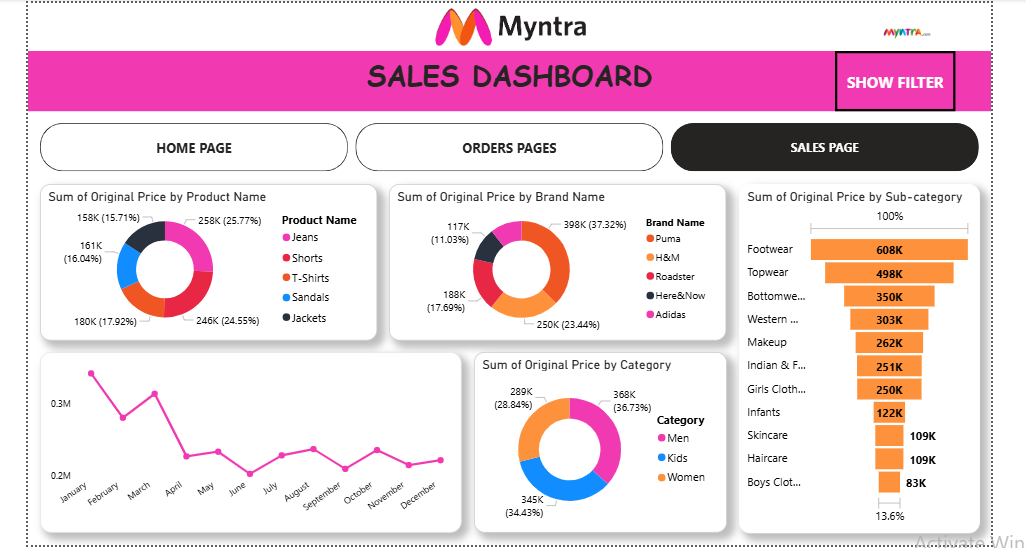

The dashboard page shown, as its layout file describes it:
{"tool":"powerbi","page":{"name":"SALES PAGE","canvas":[1280,720],"ordinal":2},"visuals":[{"type":"image","box":[0,0,1280,64],"z":0},{"type":"textbox","box":[0,64,1280,80],"z":1000},{"type":"donutChart","fields":{"Category":["dim_products.Product Name"],"Y":["Sum(fact_orders.Original Price)"]},"box":[16,240,448,208],"z":2000},{"type":"donutChart","fields":{"Category":["dim_products.Brand Name"],"Y":["Sum(fact_orders.Original Price)"]},"box":[480,240,448,208],"z":3000},{"type":"lineChart","fields":{"Category":["fact_orders.Month Name"],"Y":["Sum(fact_orders.Original Price)"]},"box":[16,464,560,240],"z":4000},{"type":"donutChart","fields":{"Category":["dim_products.Category"],"Y":["Sum(fact_orders.Original Price)"]},"box":[592,464,336,240],"z":5000},{"type":"funnel","fields":{"Category":["dim_products.Sub-category"],"Y":["Sum(fact_orders.Original Price)"]},"box":[944,240,320,464],"z":6000},{"type":"actionButton","box":[1072,64,160,80],"z":7000},{"type":"image","box":[1104,16,128,48],"z":10000},{"type":"pageNavigator","box":[16,160,1248,64],"z":11000}]}

Visuals, with their boxes on the page's 1280x720 design canvas (x1, y1, x2, y2). These are canvas units, not pixel positions in the 1026x548 screenshot, which may show the page scaled, cropped or inside an application window:
image: left=0, top=0, right=1280, bottom=64
textbox: left=0, top=64, right=1280, bottom=144
donutChart - dim_products.Product Name x Sum(fact_orders.Original Price): left=16, top=240, right=464, bottom=448
donutChart - dim_products.Brand Name x Sum(fact_orders.Original Price): left=480, top=240, right=928, bottom=448
lineChart - fact_orders.Month Name x Sum(fact_orders.Original Price): left=16, top=464, right=576, bottom=704
donutChart - dim_products.Category x Sum(fact_orders.Original Price): left=592, top=464, right=928, bottom=704
funnel - dim_products.Sub-category x Sum(fact_orders.Original Price): left=944, top=240, right=1264, bottom=704
actionButton: left=1072, top=64, right=1232, bottom=144
image: left=1104, top=16, right=1232, bottom=64
pageNavigator: left=16, top=160, right=1264, bottom=224
